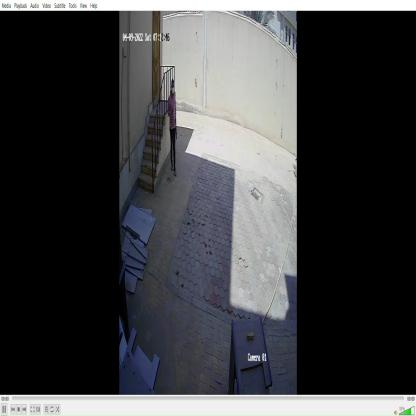handgun: (174, 109, 179, 147)
